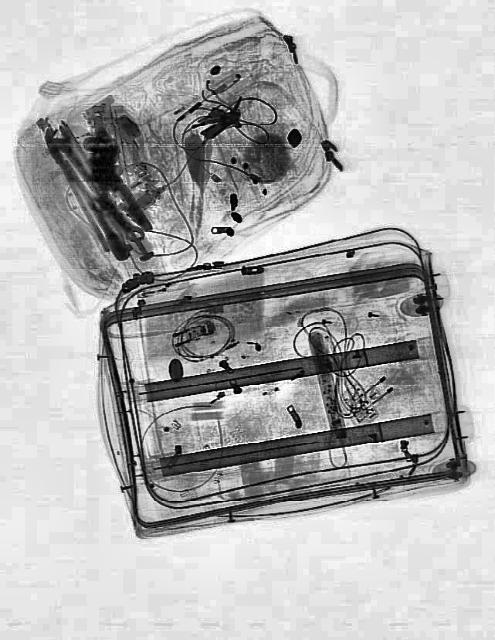Wrench: (44, 118, 148, 250)
